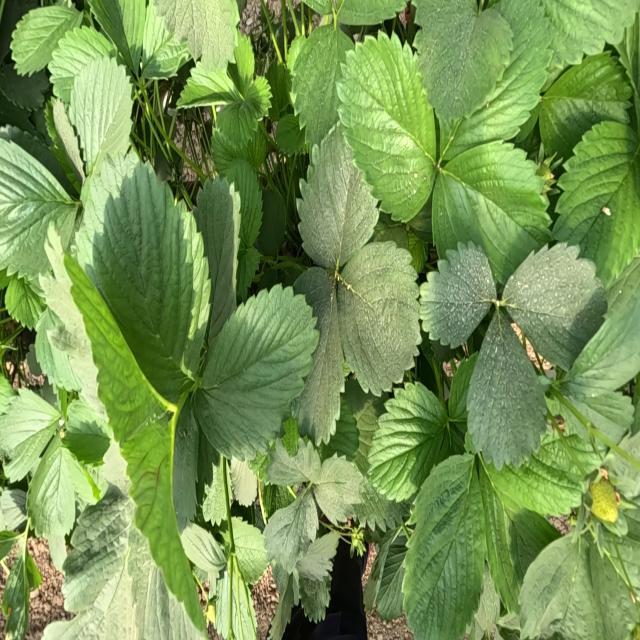Leaves: (74, 153, 211, 404), (199, 286, 318, 460), (337, 36, 435, 222), (441, 0, 554, 159), (121, 421, 205, 631), (403, 455, 486, 637), (433, 153, 551, 281), (553, 120, 639, 287), (415, 0, 512, 133), (467, 311, 547, 467), (337, 242, 419, 393), (503, 245, 603, 368), (298, 126, 378, 267), (42, 530, 144, 639), (560, 270, 640, 404), (1, 137, 77, 275), (368, 388, 454, 502), (292, 267, 344, 448), (539, 53, 630, 156), (63, 488, 134, 611), (502, 419, 584, 515), (420, 243, 495, 346), (290, 23, 351, 147), (193, 175, 238, 339), (68, 57, 131, 173), (519, 531, 585, 638), (478, 463, 524, 614), (27, 432, 75, 568), (36, 301, 97, 404), (153, 0, 239, 69), (544, 1, 638, 63), (0, 388, 59, 482), (10, 1, 81, 74), (49, 25, 115, 103), (2, 525, 42, 639), (264, 488, 318, 572), (88, 1, 147, 72), (212, 101, 265, 176), (343, 379, 383, 475), (140, 5, 189, 80), (172, 394, 199, 528), (313, 455, 363, 523), (370, 526, 405, 619), (226, 159, 262, 248), (572, 391, 633, 442), (216, 561, 255, 639), (65, 399, 112, 460), (177, 61, 239, 107), (350, 477, 402, 530), (53, 100, 85, 180), (180, 523, 226, 578), (230, 517, 268, 583), (266, 439, 320, 485), (0, 62, 49, 110), (322, 401, 359, 460), (256, 187, 287, 257), (297, 532, 339, 580), (269, 572, 295, 639), (338, 0, 406, 25), (299, 575, 331, 622), (202, 465, 226, 526), (265, 63, 290, 119), (230, 457, 257, 507), (275, 114, 304, 153), (245, 77, 272, 116), (1, 489, 26, 531), (234, 30, 255, 79)
Strawberries: (590, 477, 618, 523), (350, 529, 366, 555)
